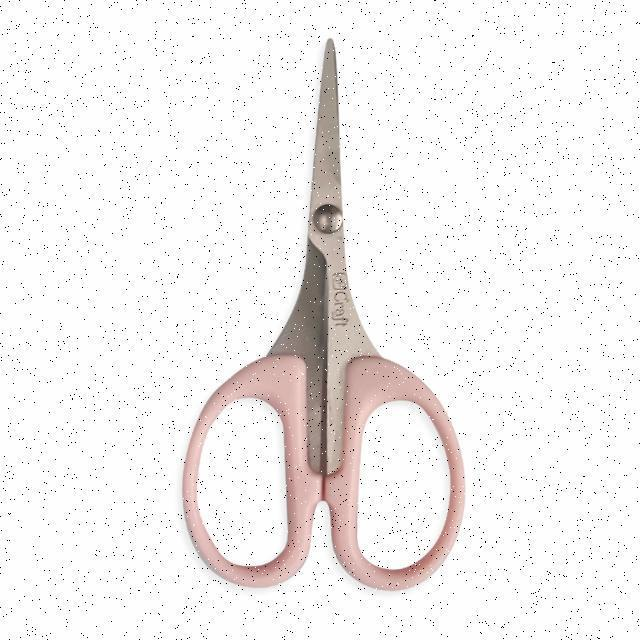scissors: (176, 32, 470, 598)
